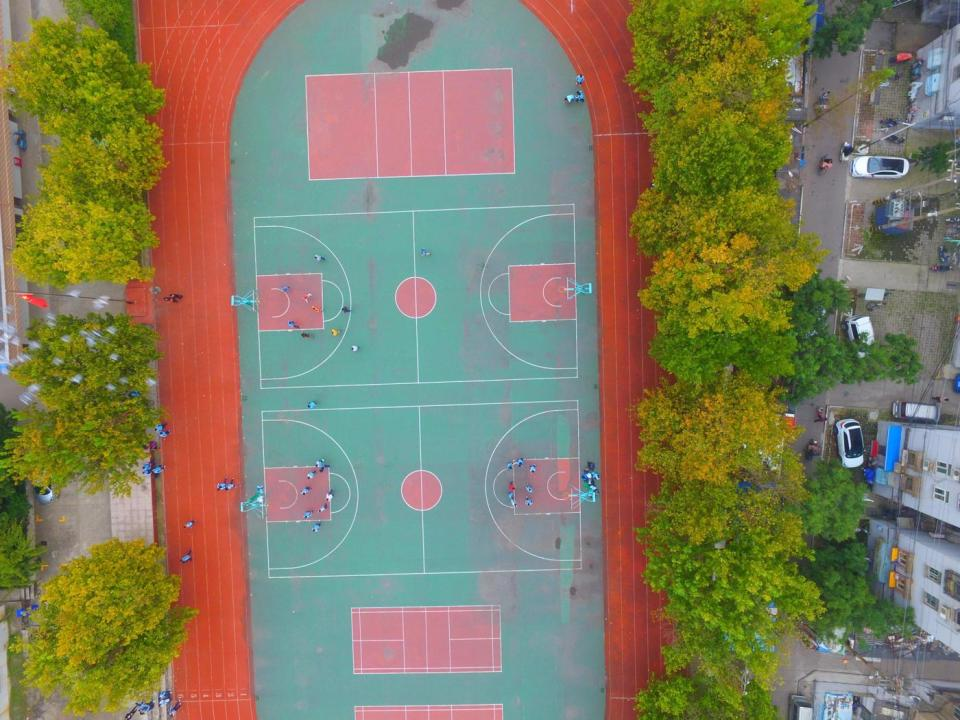car: (30, 448, 68, 506), (848, 154, 915, 185), (834, 417, 867, 468), (800, 290, 829, 345)
van: (843, 313, 880, 362), (890, 399, 946, 425)
